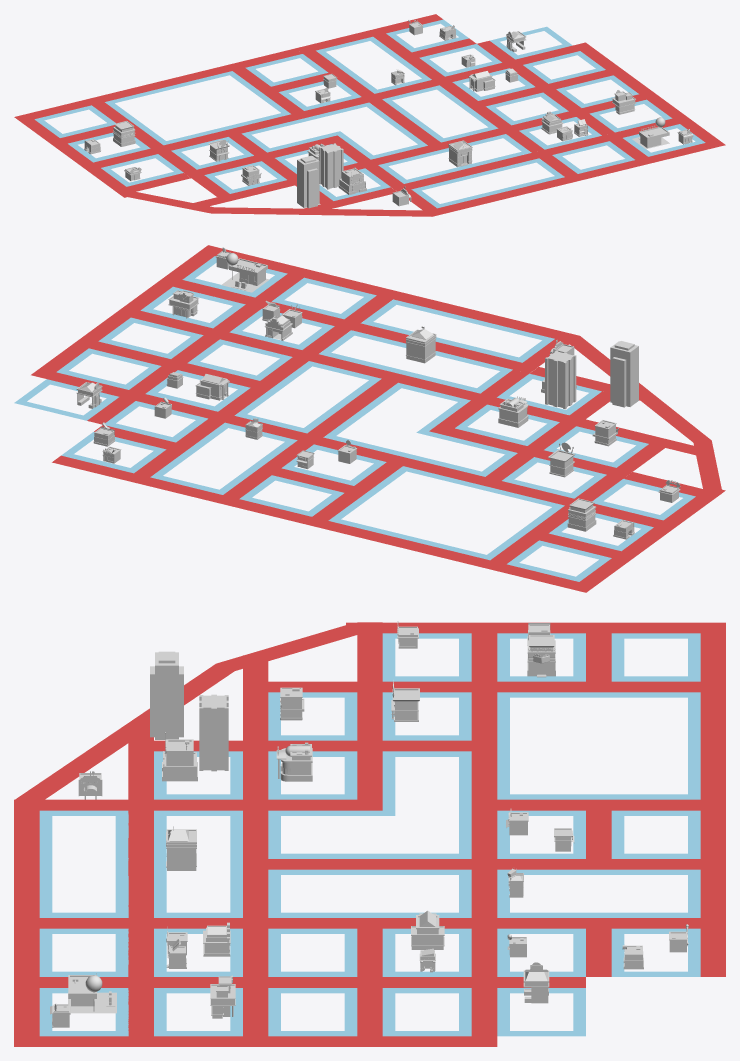
Rendered from Mapa.FBX.
The picture shows the model from 3 angles, top to bottom: view 1: azimuth 30°, elevation 25°; view 2: azimuth 150°, elevation 25°; view 3: azimuth 270°, elevation 25°; orthographic projection. The views are drawn at different scales.
Visible parts, largest first — view 1: Plane__97_, Building_02, Building_01, Plane__115_, Plane__79_, Gas, Plane__83_, Plane__91_, Plane__84_, Plane__98_, Police, Plane__57_ (+76 smaller); view 2: Building_02, Plane__97_, Building_01, Gas, Plane__82_, Plane__83_, Plane__115_, Plane__57_, Plane__98_, Plane__84_, School, Plane__68_ (+52 smaller); view 3: Plane__97_, Building_02, Building_01, Plane__115_, Plane__79_, Plane__84_, Plane__57_, Plane__82_, Plane__83_, Plane__91_, Plane__98_, Gas (+97 smaller).
Part boxes in pixels (bbox=[...]): Plane__97_: bbox=[211, 207, 432, 216]; Building_02: bbox=[297, 155, 319, 208]; Building_01: bbox=[319, 143, 343, 189]; Plane__115_: bbox=[186, 180, 295, 209]; Plane__79_: bbox=[302, 187, 396, 213]; Gas: bbox=[632, 117, 669, 149]; Plane__83_: bbox=[536, 67, 625, 92]; Plane__91_: bbox=[636, 140, 725, 165]; Plane__84_: bbox=[503, 42, 592, 67]; Plane__98_: bbox=[125, 191, 216, 213]; Police: bbox=[338, 167, 366, 194]; Plane__57_: bbox=[602, 115, 692, 140]; Building_02: bbox=[610, 341, 638, 407]; Plane__97_: bbox=[566, 336, 711, 443]; Building_01: bbox=[545, 350, 576, 409]; Gas: bbox=[221, 253, 269, 292]; Plane__82_: bbox=[115, 306, 228, 338]; Plane__83_: bbox=[73, 337, 186, 369]; Plane__115_: bbox=[576, 419, 712, 457]; Plane__57_: bbox=[157, 276, 270, 308]; Plane__98_: bbox=[693, 440, 721, 492]; Plane__84_: bbox=[31, 368, 144, 400]; School: bbox=[406, 326, 436, 363]; Plane__68_: bbox=[440, 345, 538, 373]; Plane__97_: bbox=[14, 663, 234, 805]; Building_02: bbox=[150, 651, 183, 739]; Building_01: bbox=[199, 694, 228, 771]; Plane__115_: bbox=[243, 655, 268, 741]; Plane__79_: bbox=[128, 724, 153, 799]; Plane__84_: bbox=[471, 977, 497, 1046]; Plane__57_: bbox=[128, 977, 153, 1046]; Plane__82_: bbox=[243, 977, 268, 1046]; Plane__83_: bbox=[357, 977, 382, 1046]; Plane__91_: bbox=[14, 977, 39, 1046]; Plane__98_: bbox=[217, 623, 365, 671]; Gas: bbox=[68, 973, 116, 1013].
Size of the model in its own units: 79.01 by 6.72 by 56.01.
